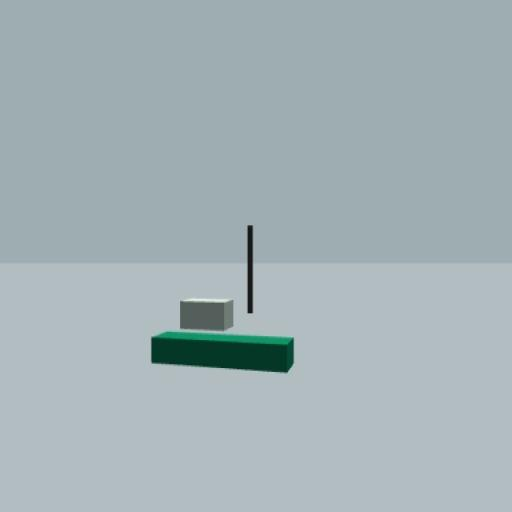fishing_boat: (151, 221, 295, 376)
